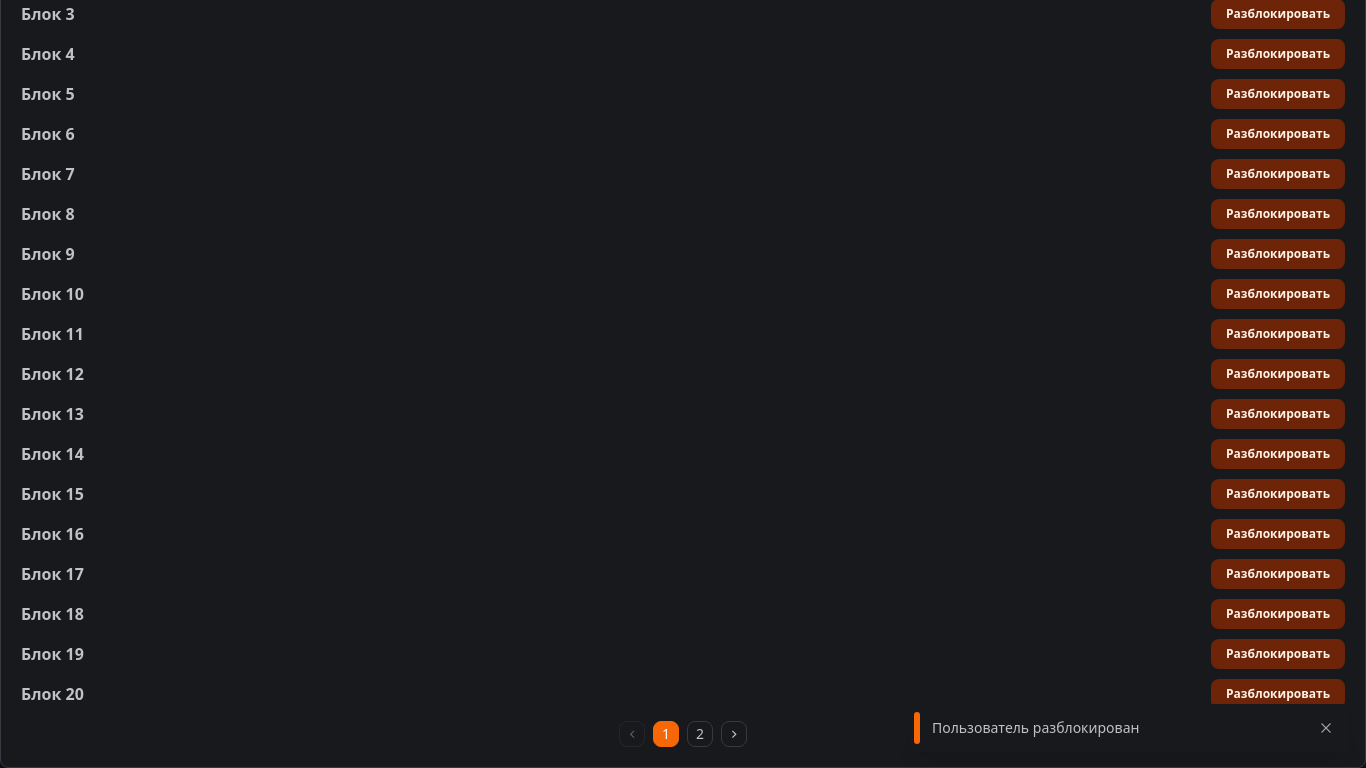
Test: BlockedUsersList › paginates to older blocked users via the page control
(page scrolled)
Note: Second Pagination page button.
Click the button "2" at (700,734), box [687,721,713,747]
(page scrolled)
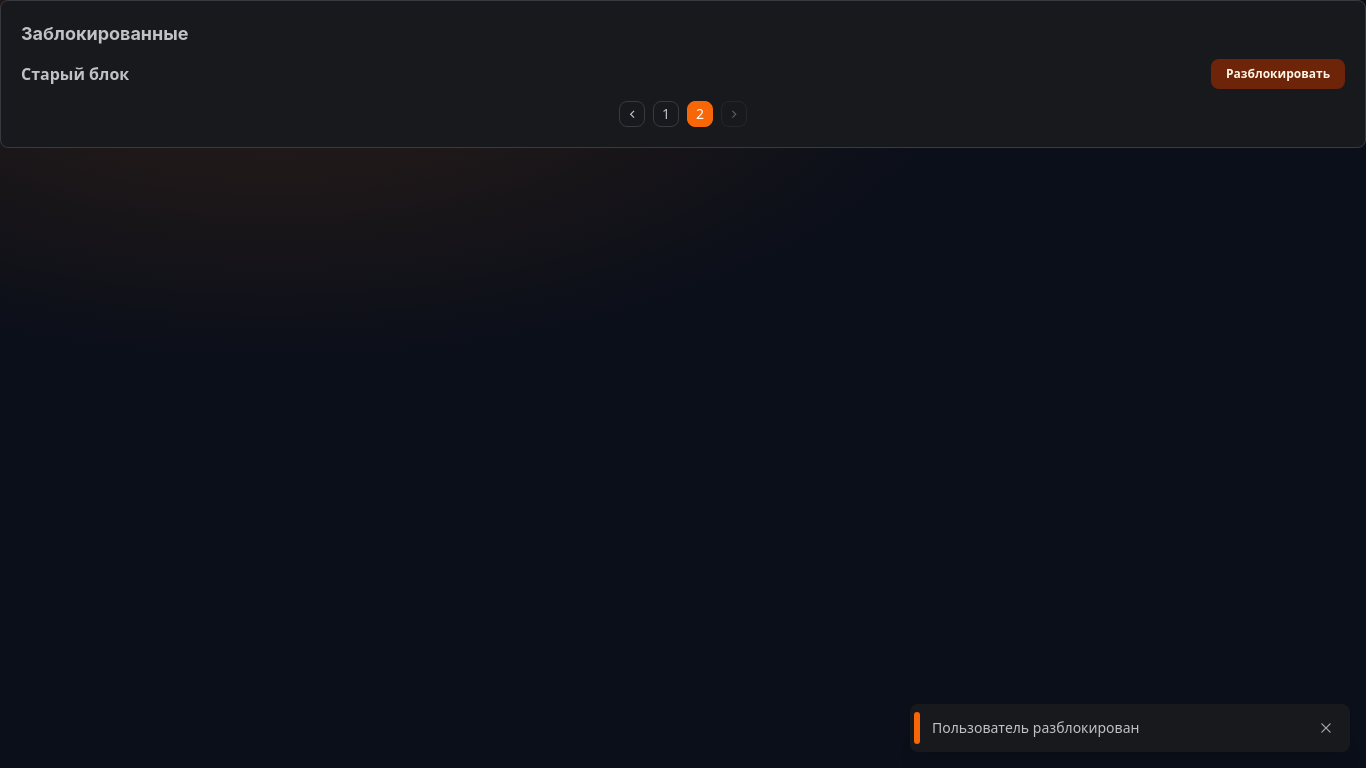
Expected: the link "Старый блок" is shown, [21,62,129,86]
